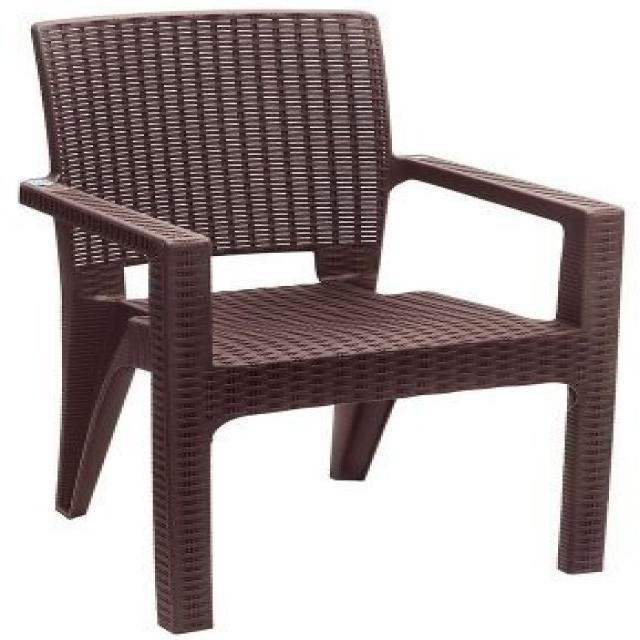chair: (18, 11, 622, 640)
